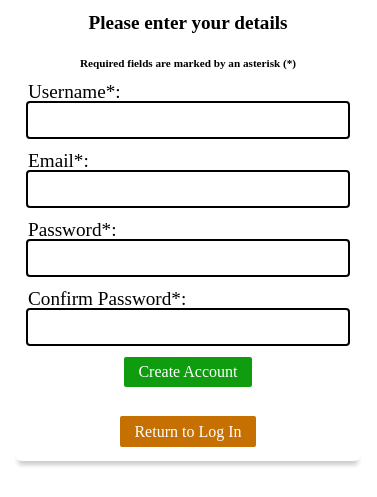
Test: UI/DOM Testing... › The 'Confirm Password' error message... › Should be present if the value of the 'Password' input is changed          and the new value is invalid
Step 1. Type "a" into the password field named "confirm-password-input" → [188, 327], box [28,310,348,344]
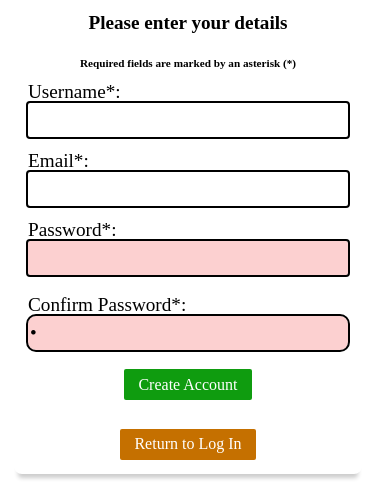
Check: the heading named "confirm-password-error" is shown, box [28,350,348,356]
